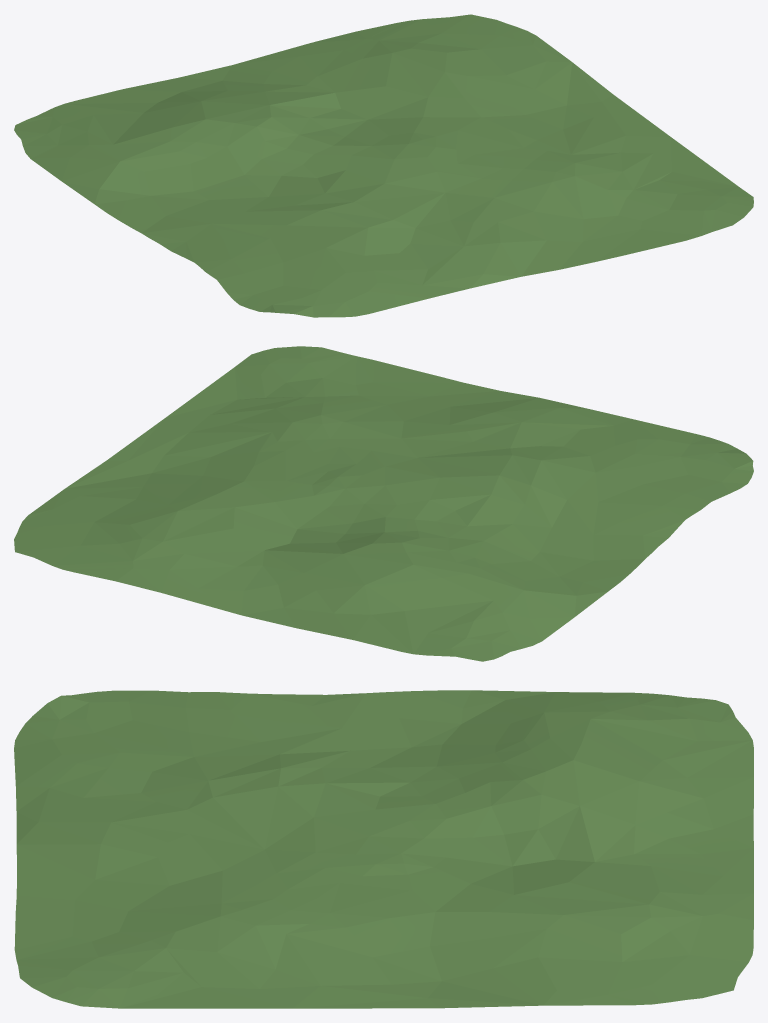
Rendered from ground_01.glb.
3 renders of one model, top to bottom at view 1: azimuth 30°, elevation 25°; view 2: azimuth 150°, elevation 25°; view 3: azimuth 270°, elevation 25°, orthographic. The views are drawn at different scales.
Parts seen in each view (by area): view 1: Ground_01; view 2: Ground_01; view 3: Ground_01.
Boxes of the visible parts, x1,y1,x2,y2 form: Ground_01: (14,14,753,317); Ground_01: (14,346,753,661); Ground_01: (14,690,753,1008).
Bounding box in the file's own units: 29.77 × 1.32 × 29.74.
1 material, 1 textured.
